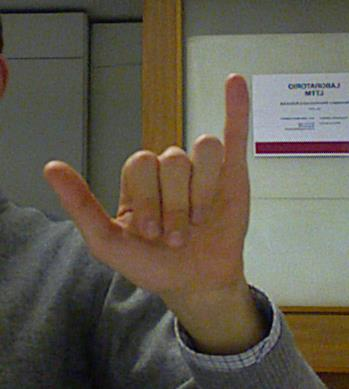clockwise: (32, 63, 257, 298)
